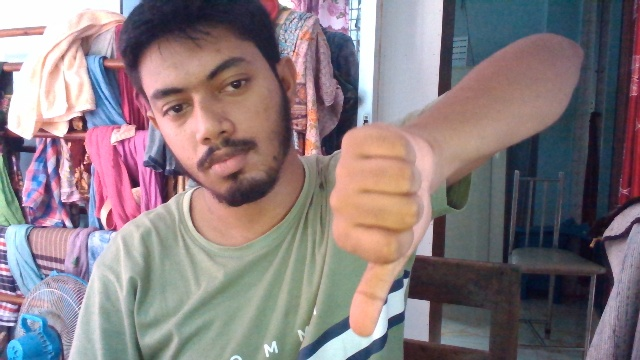no: (336, 108, 436, 337)
